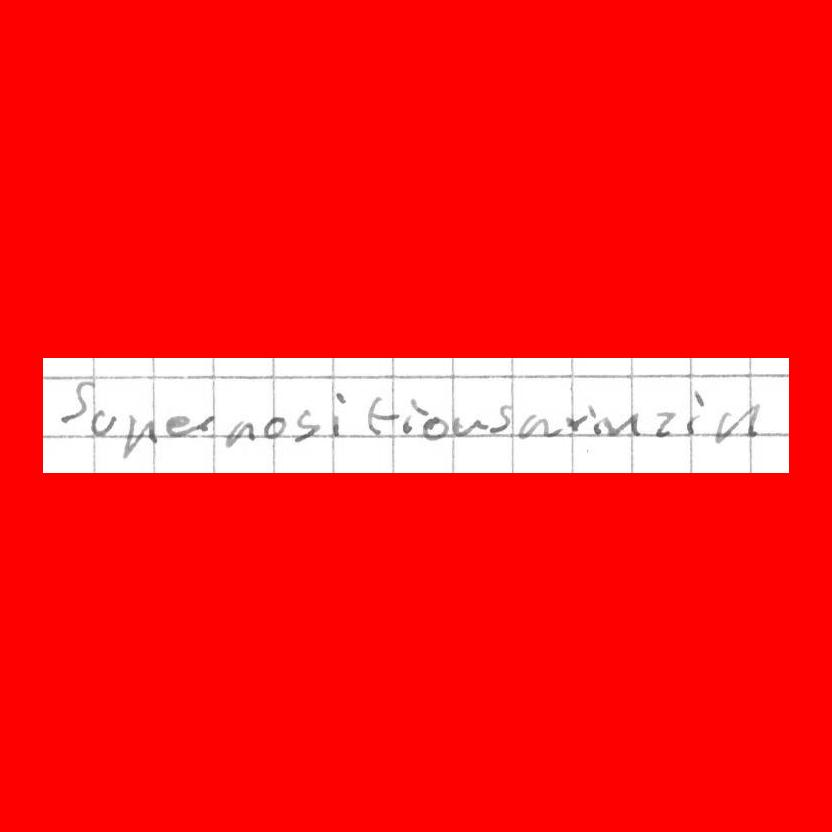Char: (712, 402, 761, 444), (116, 413, 158, 459), (58, 379, 96, 424), (514, 408, 563, 441), (592, 409, 643, 438), (365, 393, 396, 438), (293, 404, 325, 444), (218, 418, 259, 449), (683, 388, 709, 435), (398, 395, 424, 438), (326, 388, 347, 438), (564, 402, 597, 433), (417, 413, 449, 443), (452, 413, 488, 439), (88, 407, 117, 436), (162, 412, 191, 441), (488, 402, 513, 435), (264, 414, 291, 441), (652, 409, 677, 438), (191, 412, 214, 437)
